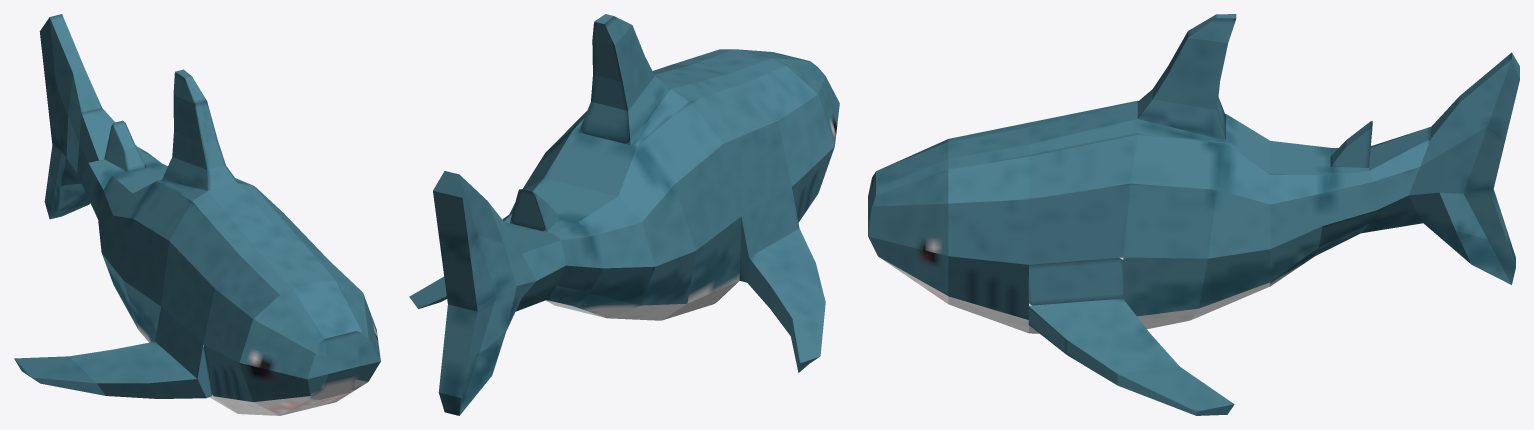
The model's file is PlushShark.fbx.
The picture shows the model from 3 angles, left to right: view 1: azimuth 30°, elevation 25°; view 2: azimuth 150°, elevation 25°; view 3: azimuth 270°, elevation 25°; orthographic projection. The views are drawn at different scales.
Parts seen in each view (by area): view 1: SharkToy; view 2: SharkToy; view 3: SharkToy.
Part boxes in pixels (x1,y1,x2,y2): SharkToy: [14, 14, 380, 415]; SharkToy: [409, 14, 839, 415]; SharkToy: [868, 14, 1519, 415].
Bounding box in the file's own units: 65.49 × 54.38 × 101.
1 material, 1 textured.
